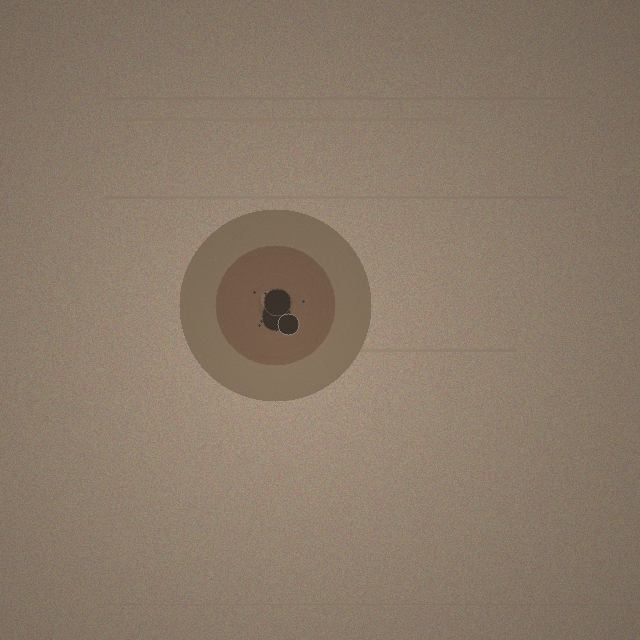shrinkage: (179, 209, 371, 401)
